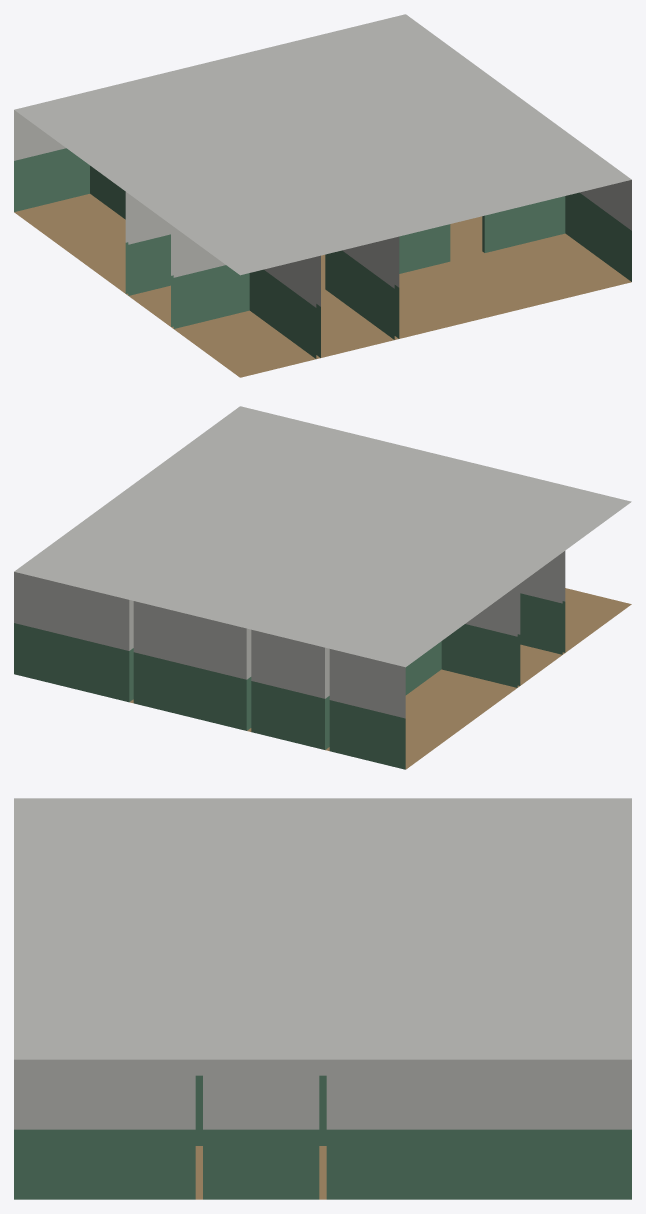
Rendered from chunk_3_0.glb.
The picture shows the model from 3 angles, top to bottom: view 1: azimuth 30°, elevation 25°; view 2: azimuth 150°, elevation 25°; view 3: azimuth 270°, elevation 25°; orthographic projection. The views are drawn at different scales.
Visible parts, largest first — view 1: chunk_3_0; view 2: chunk_3_0; view 3: chunk_3_0.
Part boxes in pixels (box(x1,y1,x2,y2)): chunk_3_0: box(14, 14, 631, 377); chunk_3_0: box(14, 406, 631, 769); chunk_3_0: box(14, 798, 631, 1199).
Size of the model in its own units: 12 by 3 by 12.
